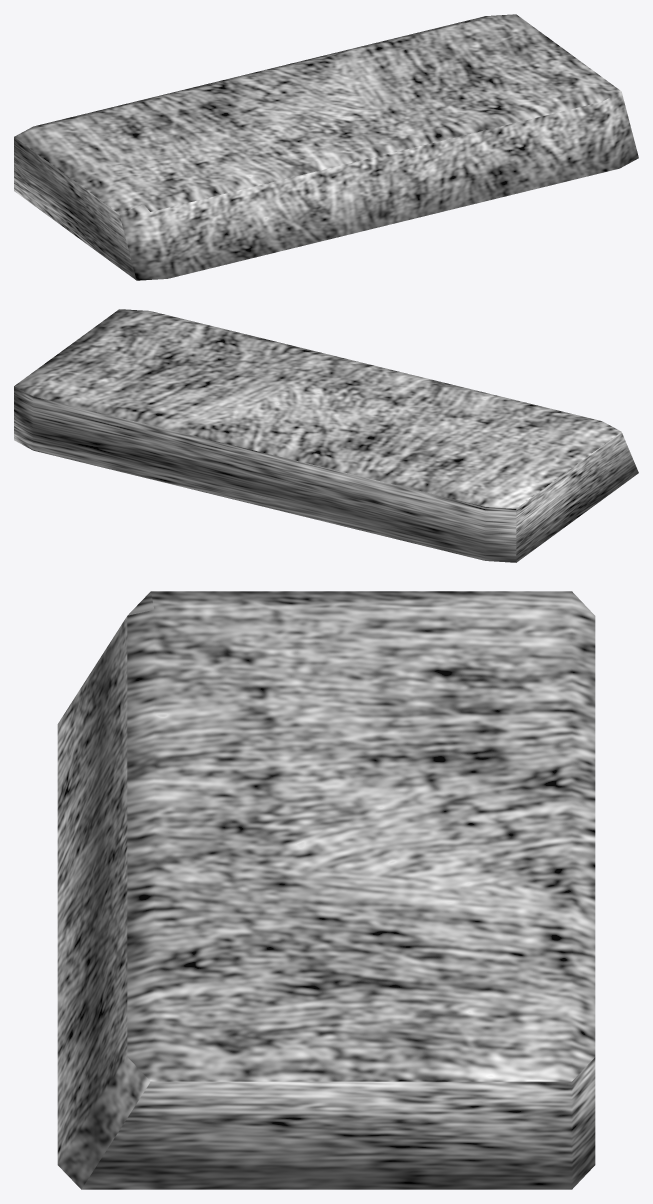
Rendered from techo_paja_4x2.fbx.
3 views of the same model, one above another, from view 1: azimuth 30°, elevation 25°; view 2: azimuth 150°, elevation 25°; view 3: azimuth 270°, elevation 25° (orthographic). The views are drawn at different scales.
Visible parts, largest first — view 1: techo_paja_4x2; view 2: techo_paja_4x2; view 3: techo_paja_4x2.
Part boxes in pixels (left/top/right/bottom): techo_paja_4x2: left=14, top=14, right=638, bottom=280; techo_paja_4x2: left=14, top=309, right=638, bottom=562; techo_paja_4x2: left=57, top=591, right=595, bottom=1189.
Size of the model in its own units: 350 by 40 by 162.
